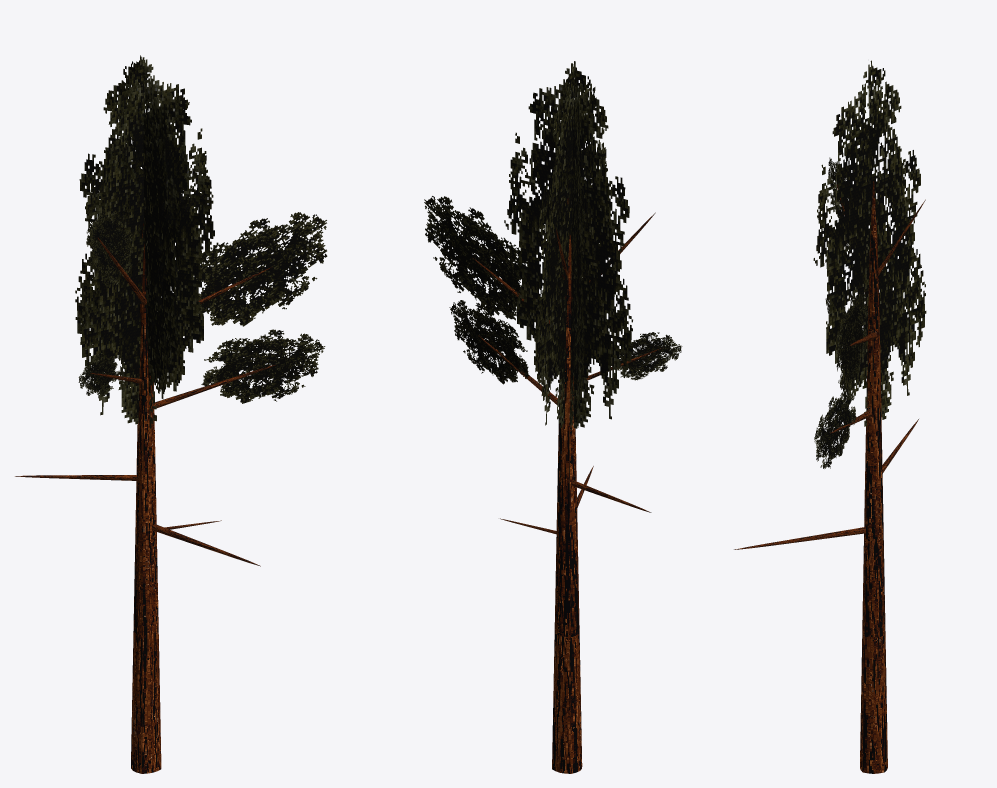
Rendered from Tree02.glb.
3 renders of one model, left to right at view 1: azimuth 30°, elevation 25°; view 2: azimuth 150°, elevation 25°; view 3: azimuth 270°, elevation 25°, orthographic.
Parts seen in each view (by area): view 1: Cubo; view 2: Cubo; view 3: Cubo.
Part boxes in pixels (<box>): Cubo: <box>15,55,327,773</box>; Cubo: <box>424,61,682,773</box>; Cubo: <box>734,60,926,773</box>.
Size of the model in its own units: 31.61 by 70.48 by 22.55.
Materials: 2 (2 with a texture image).
